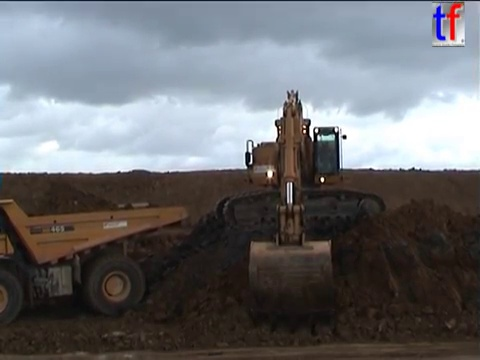excavator: (211, 86, 388, 338)
truck: (1, 195, 190, 327)
